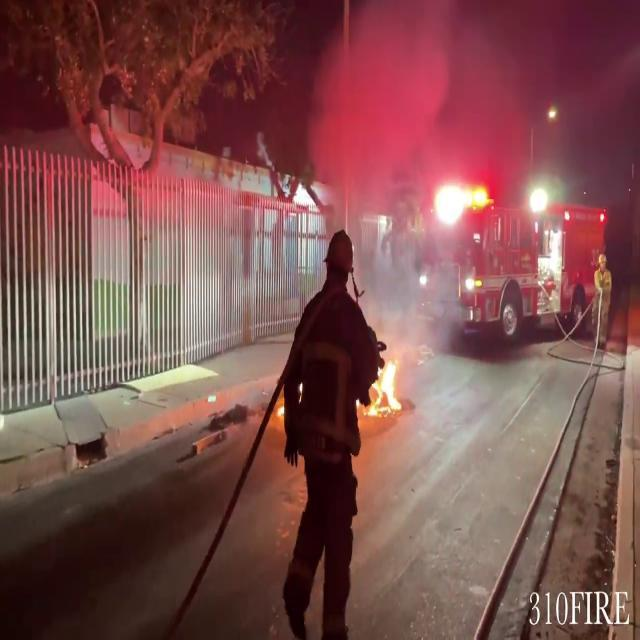Fire: (365, 348, 403, 419)
Smoke: (314, 4, 452, 340)
